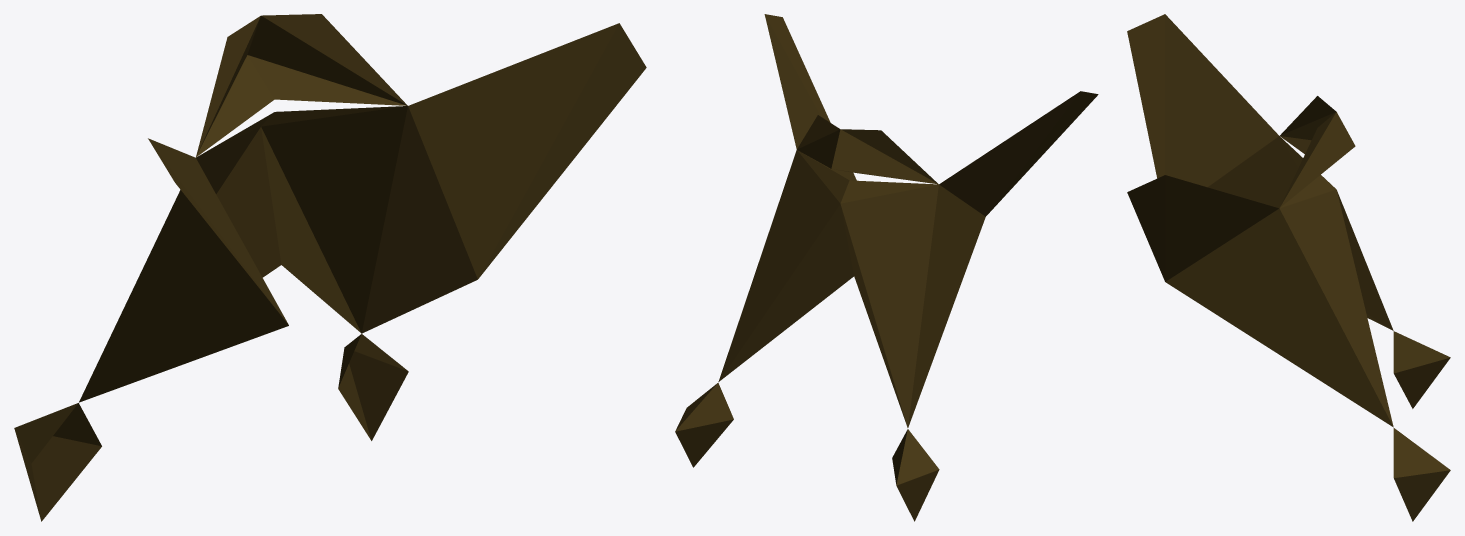
Rendered from npc_chat_wayne_1.obj.
The picture shows the model from 3 angles, left to right: view 1: azimuth 30°, elevation 25°; view 2: azimuth 150°, elevation 25°; view 3: azimuth 270°, elevation 25°; orthographic projection. The views are drawn at different scales.
Bounding box in the file's own units: 0.625 × 0.6719 × 0.5312.
